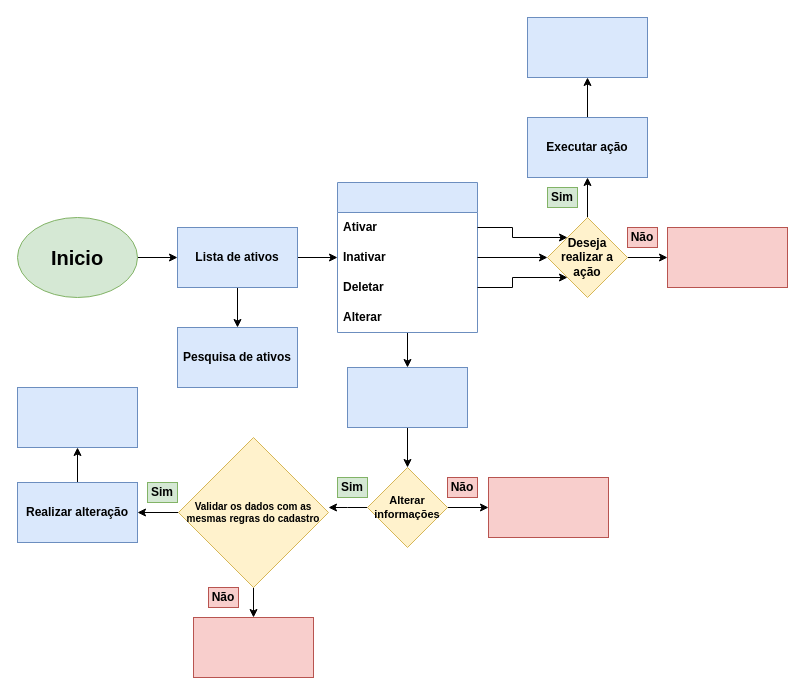
Some shapes in this 805 by 695 pixel diagram are drawn without their labels. Each missing label, with the box of its shape:
Abrir modal com as informações do ativo: (346, 366, 468, 428)
Botões: (336, 182, 478, 332)
Exibir informações do ativo: (488, 476, 608, 538)
Fechar modal: (666, 226, 788, 288)
Informa o usuário e fechar o modal: (16, 386, 138, 448)
Informa o usuário e volta para o modal: (192, 616, 314, 678)
Informar o usuário e fechar o modal: (526, 16, 648, 78)
